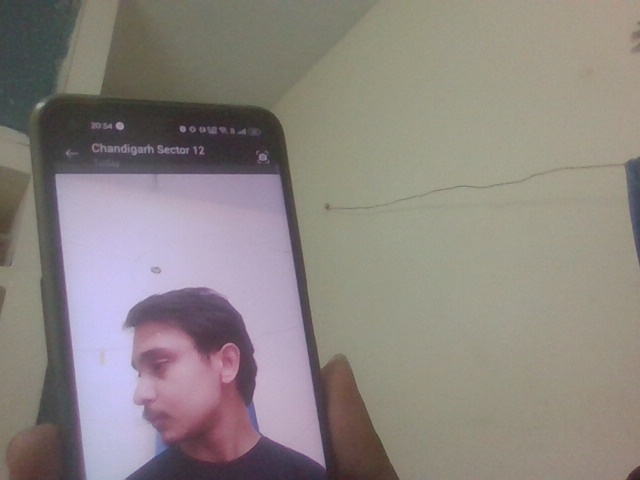fake: (116, 282, 236, 442)
